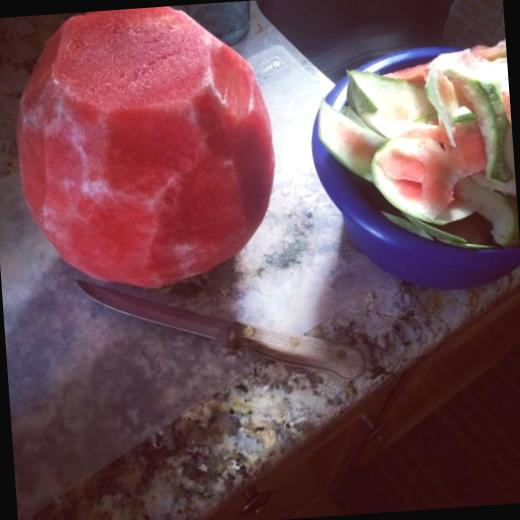Cherry: (6, 0, 284, 300)
